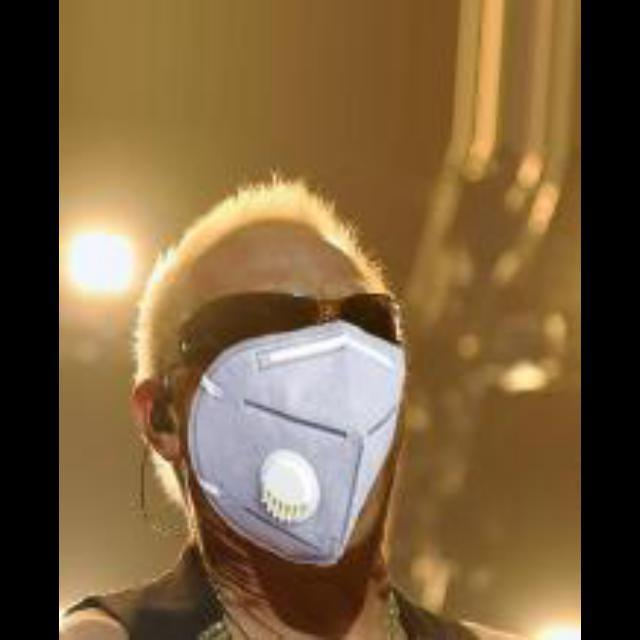suspicion: (148, 210, 410, 566)
